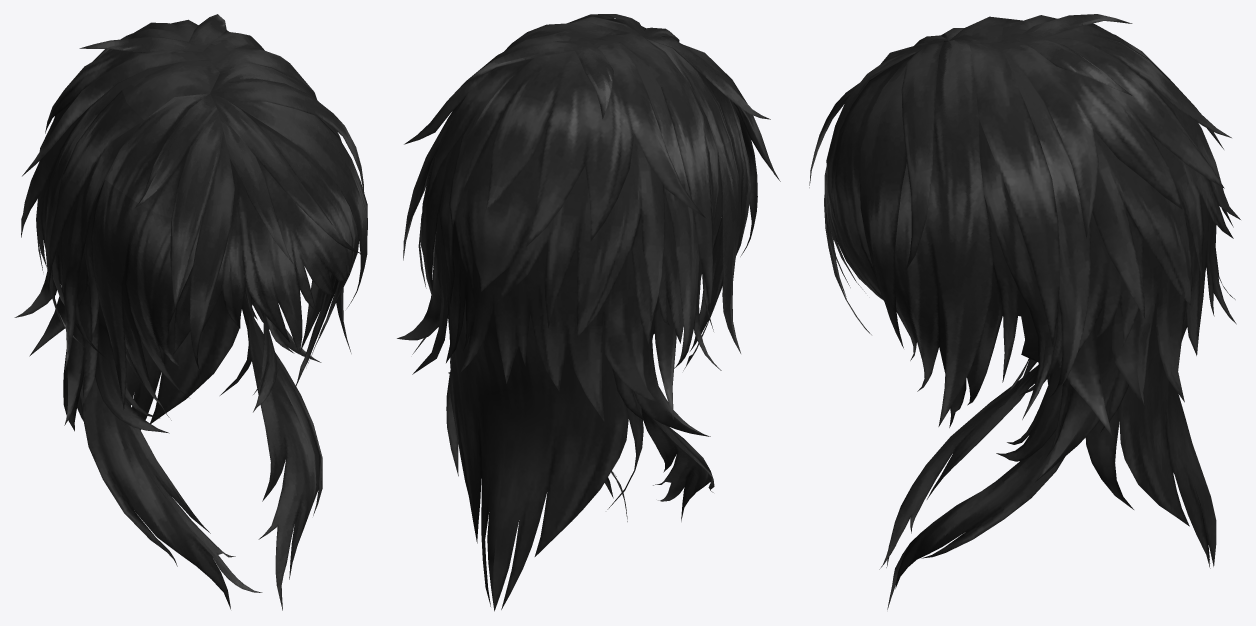
Rendered from Hair_Black.fbx.
3 renders of one model, left to right at view 1: azimuth 30°, elevation 25°; view 2: azimuth 150°, elevation 25°; view 3: azimuth 270°, elevation 25°, orthographic. The views are drawn at different scales.
Parts seen in each view (by area): view 1: HairBlue; view 2: HairBlue; view 3: HairBlue.
Boxes of the visible parts, x1=… form: HairBlue: x1=14, y1=14, x2=367, y2=610; HairBlue: x1=397, y1=14, x2=780, y2=611; HairBlue: x1=809, y1=14, x2=1240, y2=609.
Bounding box in the file's own units: 29.41 × 50.01 × 34.44.
Materials: 1 (1 with a texture image).
